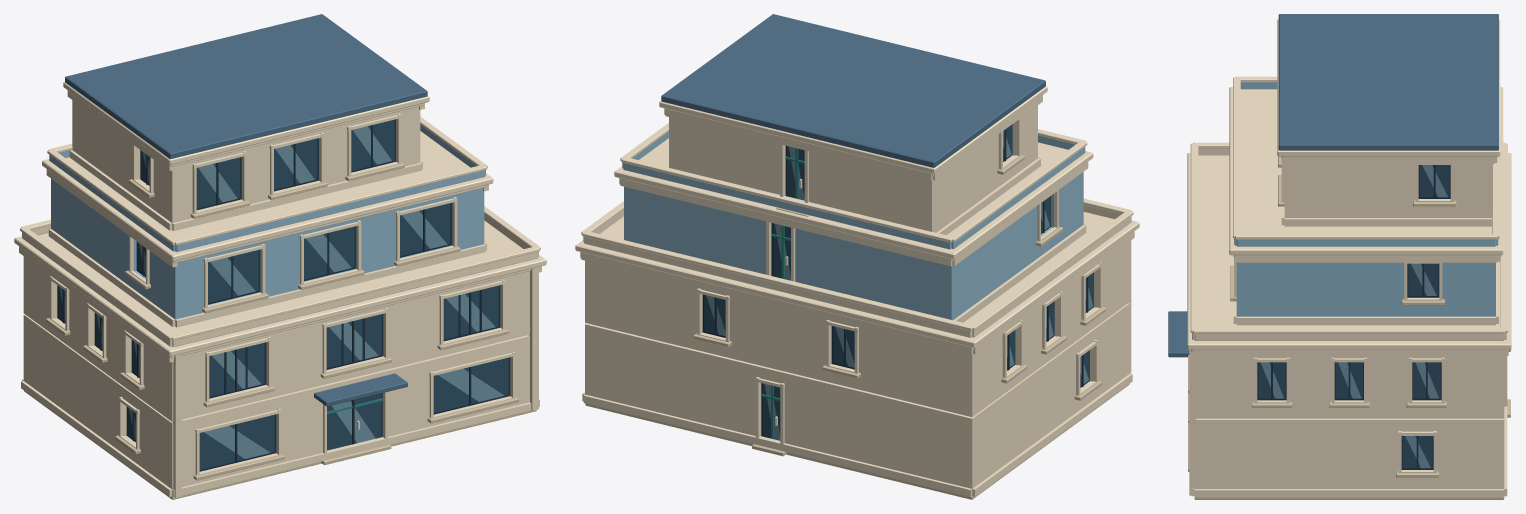
File: double_setback_office.glb
3 views of the same model, side by side, from view 1: azimuth 30°, elevation 25°; view 2: azimuth 150°, elevation 25°; view 3: azimuth 270°, elevation 25° (orthographic). The views are drawn at different scales.
Parts seen in each view (by area): view 1: DoubleSetbackOffice_StaticMesh; view 2: DoubleSetbackOffice_StaticMesh; view 3: DoubleSetbackOffice_StaticMesh.
Part boxes in pixels (x1,y1,x2,y2): DoubleSetbackOffice_StaticMesh: (14,14,546,499); DoubleSetbackOffice_StaticMesh: (575,14,1139,499); DoubleSetbackOffice_StaticMesh: (1168,14,1511,499).
Bounding box in the file's own units: 16.12 × 12.56 × 12.19.
